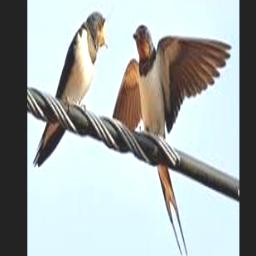Swallow: (111, 24, 231, 255), (31, 13, 108, 167)
